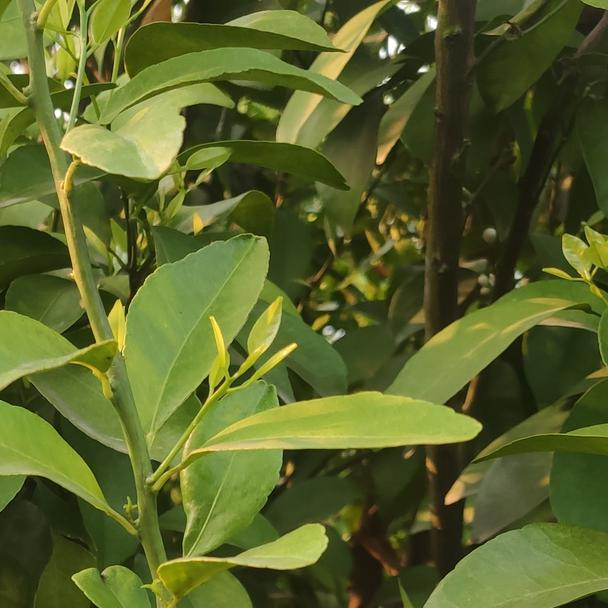shoot: (208, 317, 298, 404)
